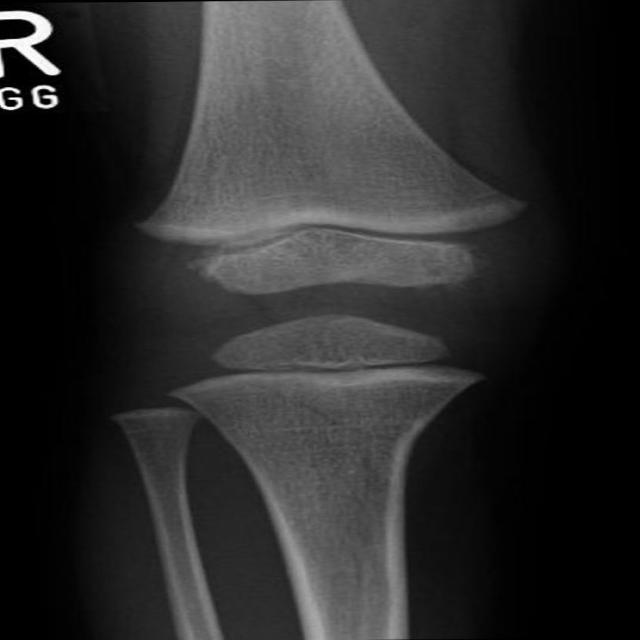Oblique Displaced: (245, 382, 411, 448)
